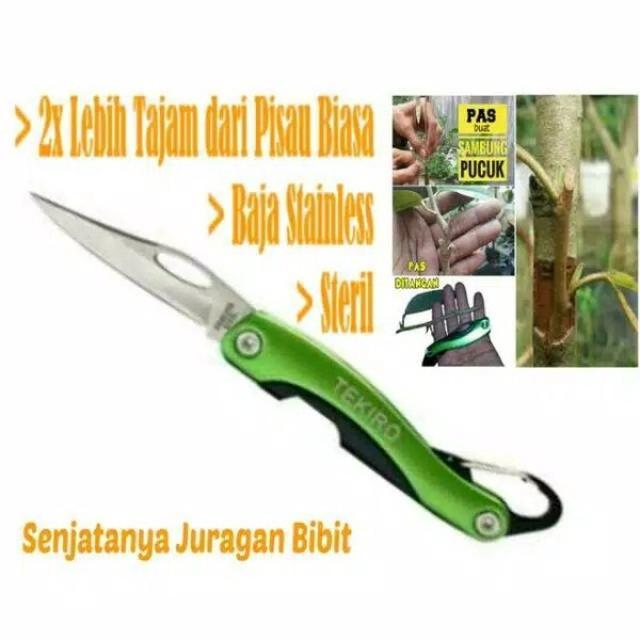Pisau: (25, 180, 594, 546)
